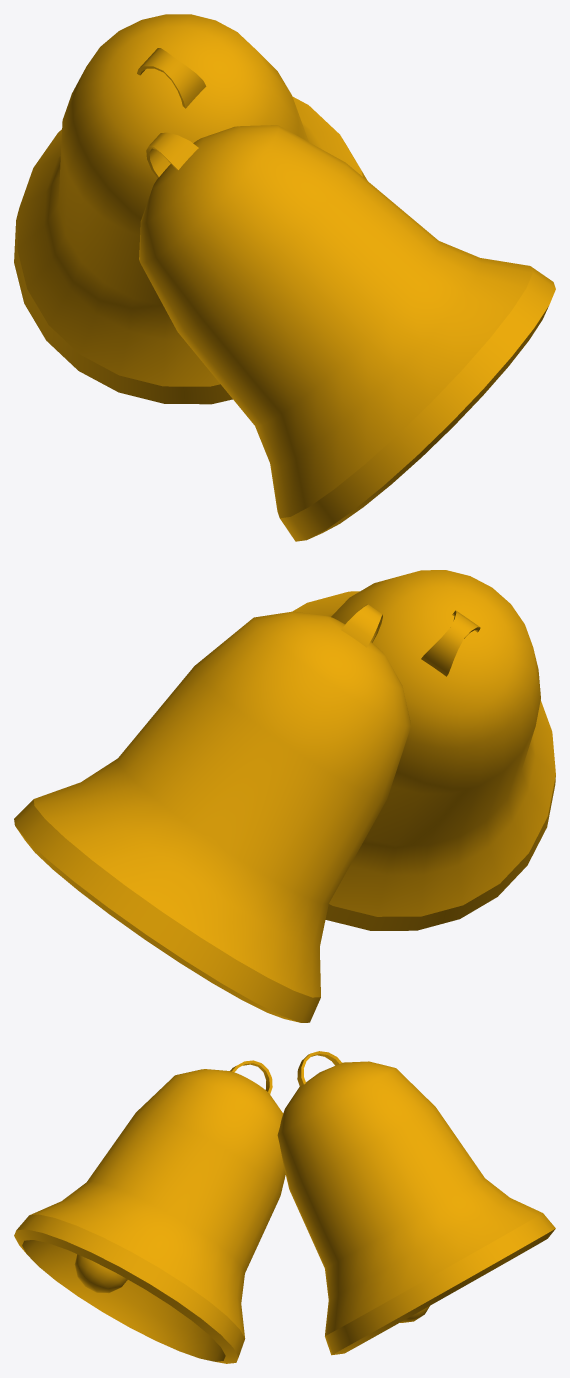
The model's file is decoration_bells_alone.fbx.
3 views of the same model, one above another, from view 1: azimuth 30°, elevation 25°; view 2: azimuth 150°, elevation 25°; view 3: azimuth 270°, elevation 25° (orthographic). The views are drawn at different scales.
Parts seen in each view (by area): view 1: decoration_bells_alone; view 2: decoration_bells_alone; view 3: decoration_bells_alone.
Boxes of the visible parts, <box> form: decoration_bells_alone: <box>14,14,555,541</box>; decoration_bells_alone: <box>14,570,555,1022</box>; decoration_bells_alone: <box>14,1051,555,1363</box>.
Size of the model in its own units: 16.21 by 17.81 by 30.4.
